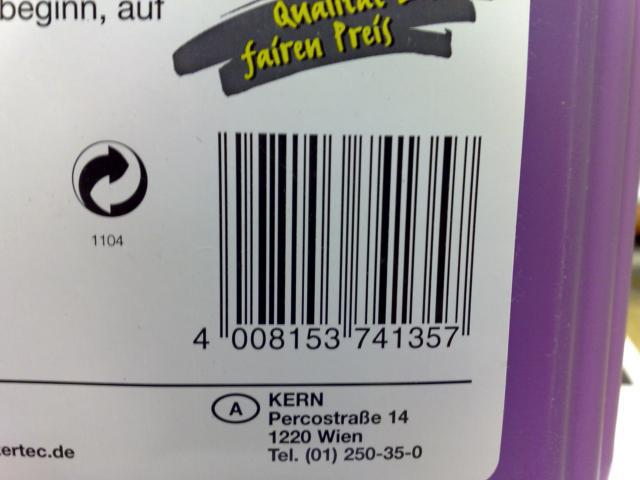Barkod: (212, 133, 476, 322)
